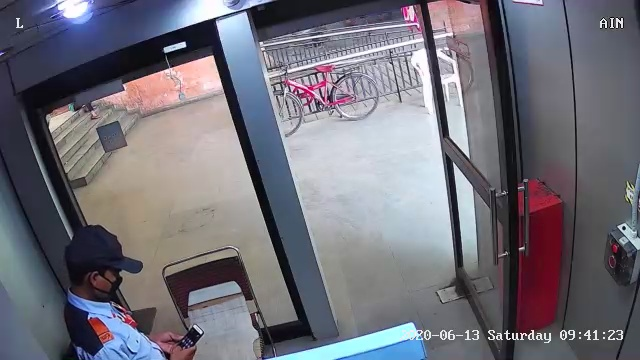open: (205, 3, 546, 358)
